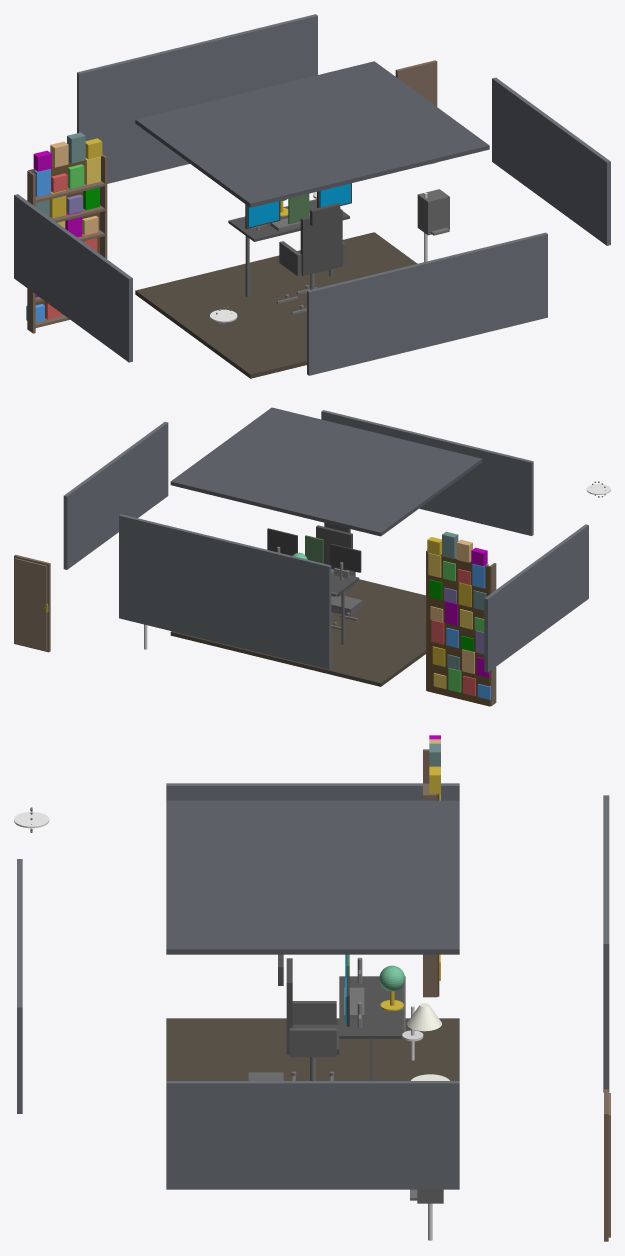
The model's file is room_office.glb.
3 views of the same model, one above another, from view 1: azimuth 30°, elevation 25°; view 2: azimuth 150°, elevation 25°; view 3: azimuth 270°, elevation 25° (orthographic). The views are drawn at different scales.
Parts seen in each view (by area): view 1: Ceiling, BackWall, FrontWall_T, Floor, LeftWall, RightWall, CBack, CoffeeMach, DoorFrame, DeskTop, BSHSideR, BSHSideL (+7 smaller); view 2: FrontWall_T, Ceiling, Floor, LeftWall, RightWall, BackWall, BSHBack, DoorPanel, CBack, Mon_0, Mon_1, DoorFrame (+3 smaller); view 3: Ceiling, RightWall, Floor, LeftWall, DeskTop, FrontWall_T, BackWall, CArmR, CArmL, BSHSideR, DoorFrame, LampShade2.
Boxes of the visible parts, x1=… form: Ceiling: x1=135, y1=61, x2=489, y2=207; BackWall: x1=307, y1=232, x2=547, y2=375; FrontWall_T: x1=77, y1=14, x2=317, y2=183; Floor: x1=135, y1=232, x2=417, y2=378; LeftWall: x1=14, y1=194, x2=132, y2=362; RightWall: x1=492, y1=77, x2=610, y2=245; CBack: x1=300, y1=209, x2=342, y2=271; CoffeeMach: x1=417, y1=189, x2=449, y2=235; DoorFrame: x1=395, y1=60, x2=437, y2=106; DeskTop: x1=229, y1=199, x2=349, y2=241; BSHSideR: x1=100, y1=154, x2=107, y2=258; BSHSideL: x1=27, y1=171, x2=35, y2=333; FrontWall_T: x1=119, y1=514, x2=331, y2=669; Ceiling: x1=170, y1=407, x2=482, y2=536; Floor: x1=170, y1=579, x2=425, y2=686; LeftWall: x1=484, y1=524, x2=588, y2=672; RightWall: x1=63, y1=422, x2=168, y2=569; BackWall: x1=321, y1=410, x2=533, y2=535; BSHBack: x1=426, y1=551, x2=490, y2=706; DoorPanel: x1=15, y1=558, x2=47, y2=650; CBack: x1=316, y1=525, x2=352, y2=570; Mon_0: x1=330, y1=543, x2=361, y2=572; Mon_1: x1=267, y1=528, x2=297, y2=555; DoorFrame: x1=14, y1=554, x2=50, y2=652; Ceiling: x1=166, y1=800, x2=459, y2=954; RightWall: x1=166, y1=1081, x2=459, y2=1189; Floor: x1=166, y1=1018, x2=459, y2=1080; LeftWall: x1=166, y1=783, x2=459, y2=800; DeskTop: x1=339, y1=976, x2=403, y2=1038; FrontWall_T: x1=603, y1=795, x2=609, y2=1092; BackWall: x1=17, y1=859, x2=22, y2=1113; CArmR: x1=289, y1=1028, x2=336, y2=1057; CArmL: x1=292, y1=1001, x2=336, y2=1024; BSHSideR: x1=423, y1=793, x2=437, y2=997; DoorFrame: x1=604, y1=1089, x2=608, y2=1241; LampShade2: x1=407, y1=1003, x2=441, y2=1031.
Size of the model in its own units: 1210 by 518 by 1018.
